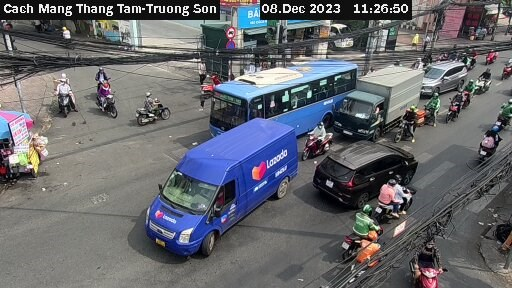bus: (205, 52, 359, 134)
car: (144, 119, 306, 261), (312, 142, 423, 205), (422, 60, 470, 97)
motorbike: (365, 178, 423, 224), (404, 242, 459, 286), (384, 108, 432, 142), (43, 72, 79, 114), (471, 129, 511, 165), (339, 209, 376, 247), (84, 63, 127, 94), (138, 94, 182, 120), (94, 87, 130, 118), (417, 91, 452, 121), (301, 125, 337, 153), (474, 64, 502, 100), (445, 90, 475, 120), (459, 78, 485, 110), (480, 39, 506, 67)
truck: (340, 66, 422, 143)
